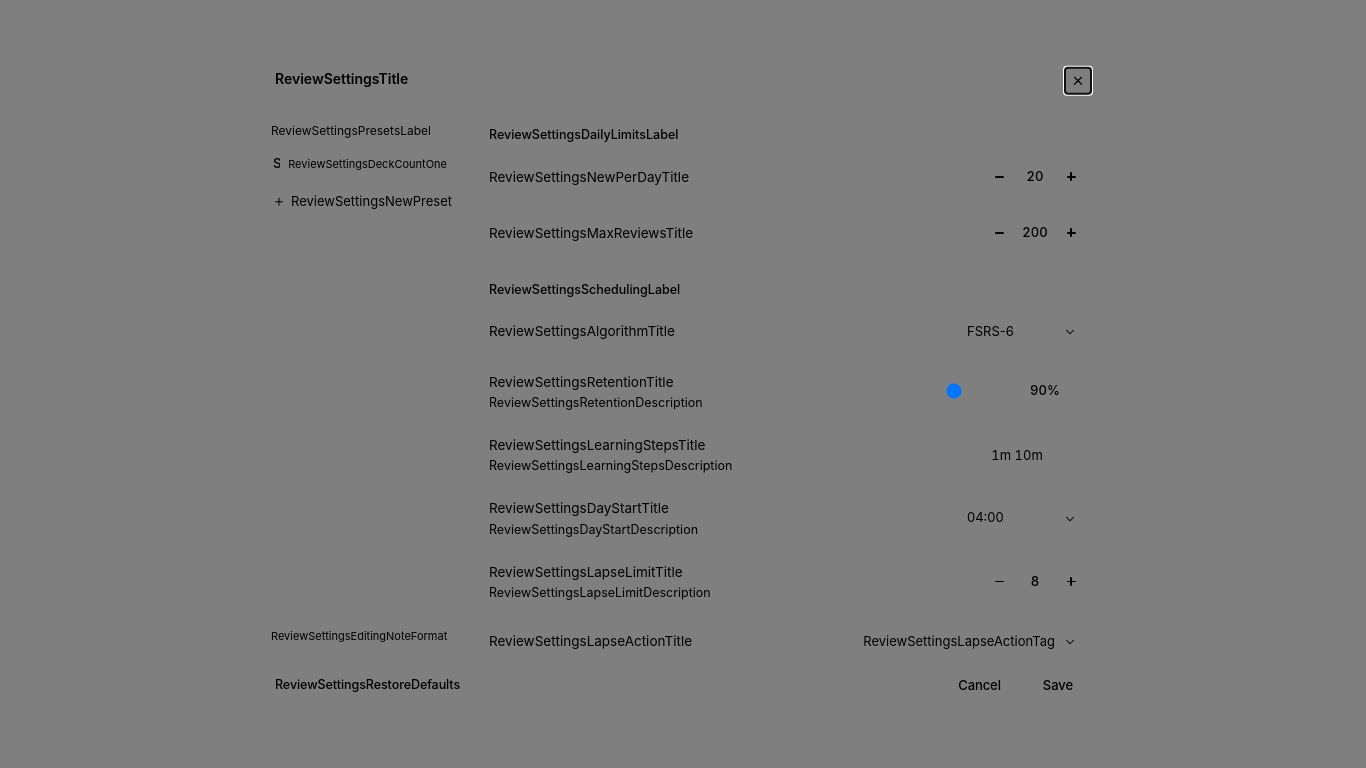
Scenario: ReviewSettingsOverlay discard guard › keeps unsaved edits when Escape dismisses and discard is refused
The width and height of the screenshot is (1366, 768).
Click the button named "ReviewSettingsNewPerDayTitle +": (1071, 176) x1=1057 y1=162 x2=1085 y2=190
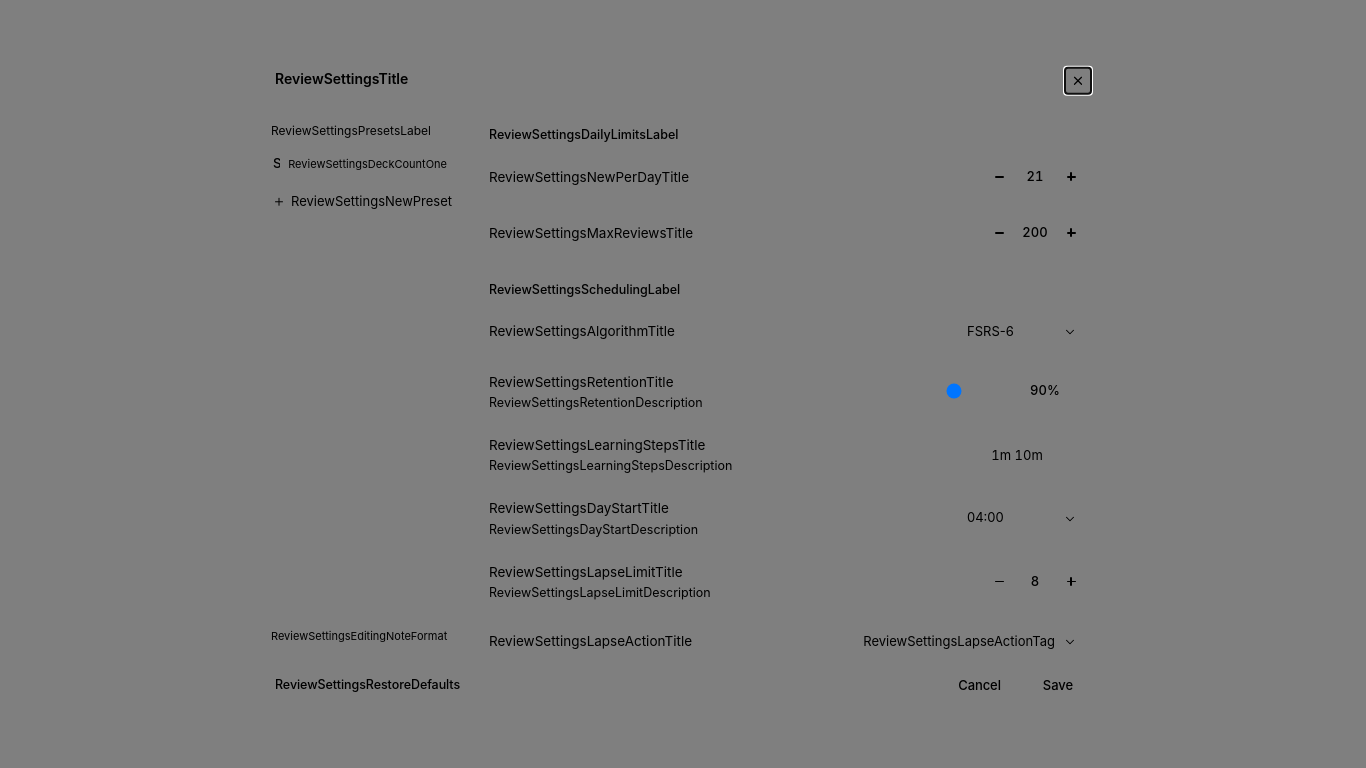
Now the field named "ReviewSettingsNewPerDayTitle" holds "21", box x1=1013 y1=167 x2=1057 y2=186
